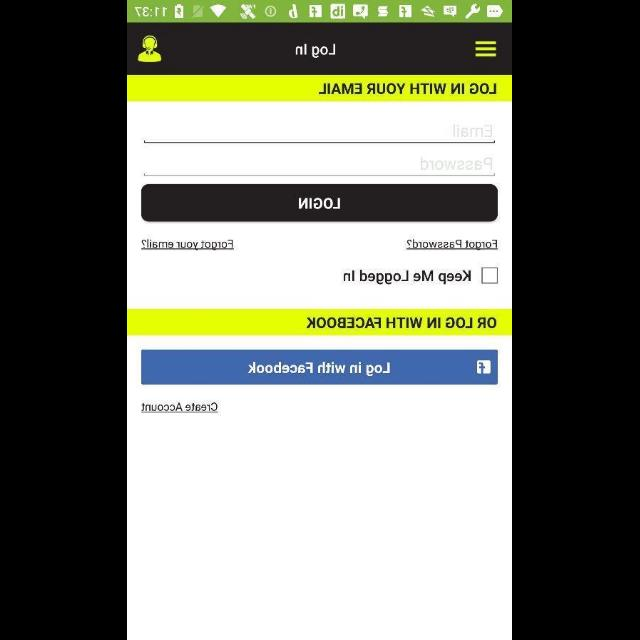checkbox: (484, 268, 498, 282)
icon: (138, 35, 162, 63), (475, 42, 497, 58)
input: (144, 125, 496, 144), (144, 158, 496, 176)
text: (318, 82, 498, 96), (306, 317, 498, 329), (344, 270, 472, 284), (142, 239, 235, 251), (406, 239, 498, 251), (421, 157, 493, 171), (142, 402, 218, 412), (296, 44, 336, 60), (453, 124, 492, 138)
textbutton: (142, 184, 498, 222), (142, 350, 498, 384)
uppertaskbar: (128, 1, 512, 23)
